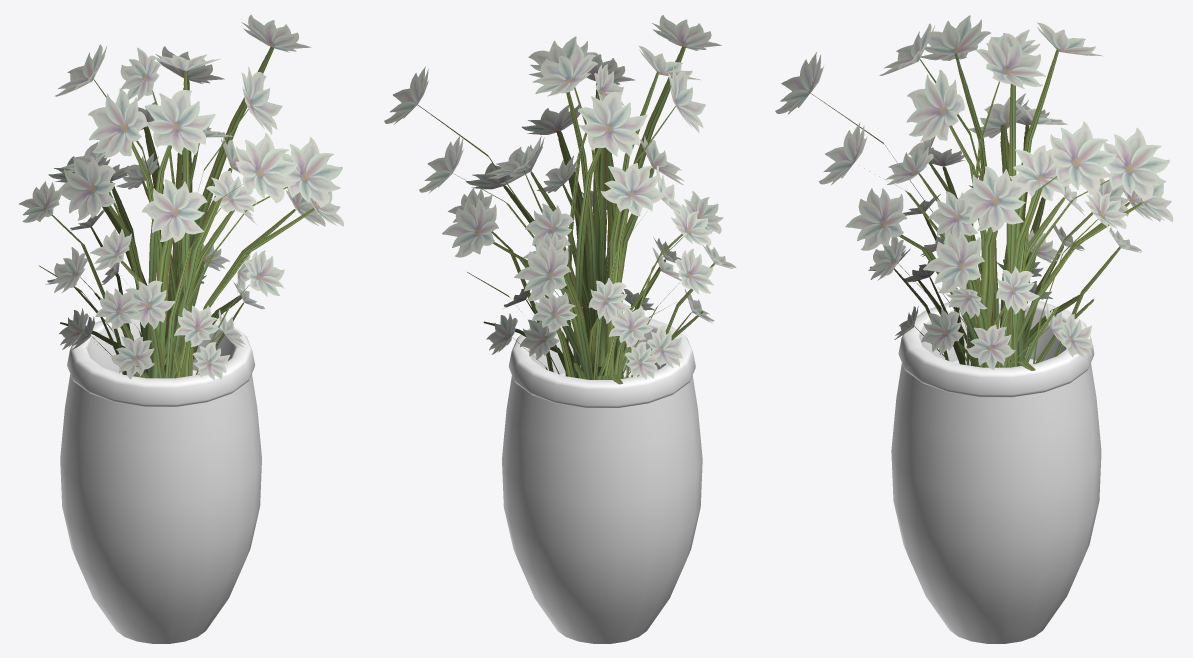
Rendered from SM_Potted_White_Flower_C.fbx.
The picture shows the model from 3 angles, left to right: view 1: azimuth 30°, elevation 25°; view 2: azimuth 150°, elevation 25°; view 3: azimuth 270°, elevation 25°; orthographic projection. The views are drawn at different scales.
Parts seen in each view (by area): view 1: SM_Potted_White_Flower_C_LOD0; view 2: SM_Potted_White_Flower_C_LOD0; view 3: SM_Potted_White_Flower_C_LOD0.
Boxes of the visible parts, <box> form: SM_Potted_White_Flower_C_LOD0: <box>19,14,343,643</box>; SM_Potted_White_Flower_C_LOD0: <box>384,15,736,643</box>; SM_Potted_White_Flower_C_LOD0: <box>775,15,1173,643</box>.
Size of the model in its own units: 42.81 by 46.79 by 75.3.
2 materials, 1 textured.
